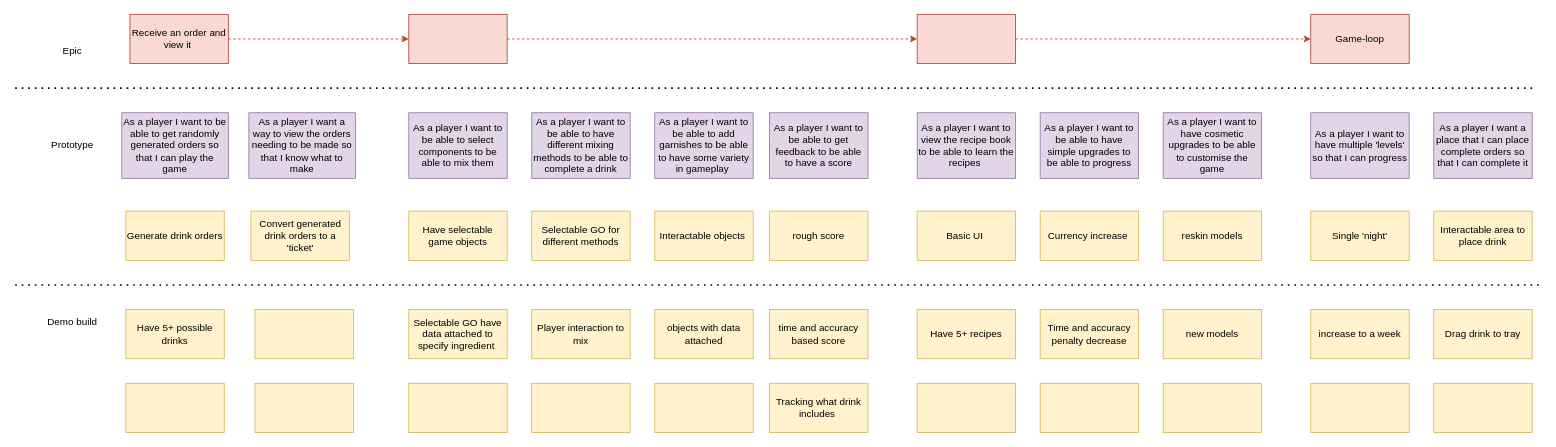
Image size: 1556x447. Some labels were removed from this diagram. Each missing label, with the centre of its shape:
Instruction book and simple upgrades: (x=966, y=39)
Make drinks and get feedback: (x=457, y=39)
